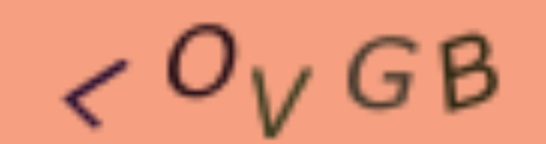B: (437, 30, 501, 112)
G: (341, 30, 421, 111)
L: (62, 54, 132, 129)
O: (163, 21, 241, 102)
V: (247, 61, 317, 138)
